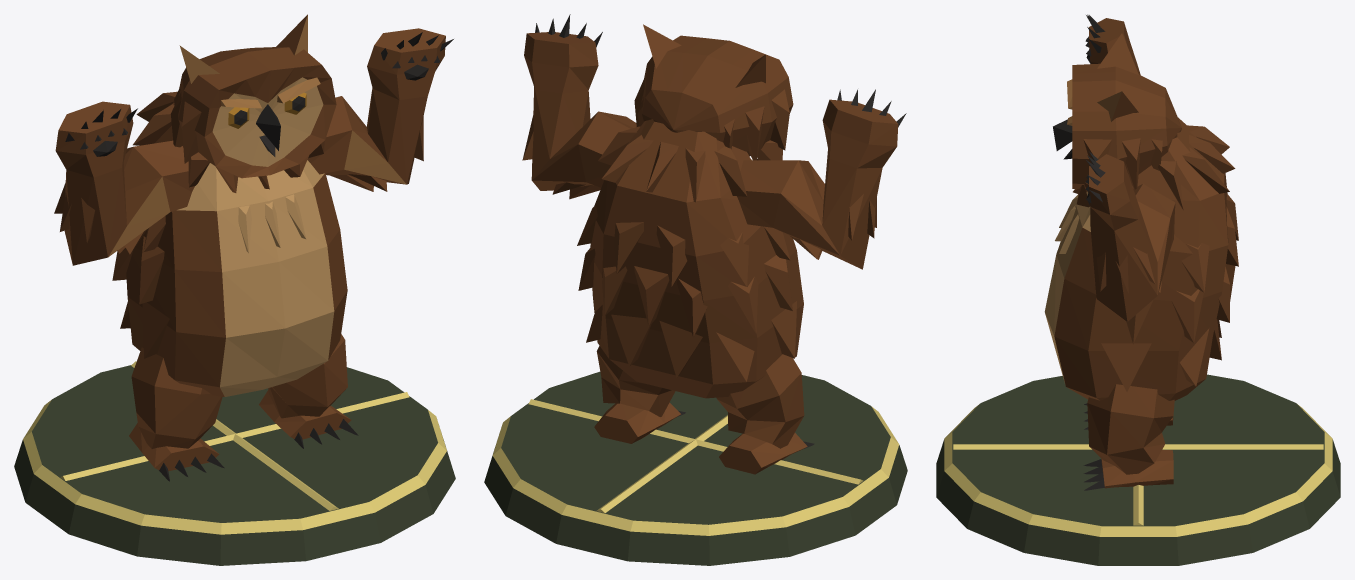
Rendered from owlbear-miniature-0218ce.glb.
The picture shows the model from 3 angles, left to right: view 1: azimuth 30°, elevation 25°; view 2: azimuth 150°, elevation 25°; view 3: azimuth 270°, elevation 25°; orthographic projection. The views are drawn at different scales.
Visible parts, largest first — view 1: matte, metal; view 2: matte, metal; view 3: matte, metal.
Part boxes in pixels (x1,y1,x2,y2): matte: (14,14,455,565); metal: (23,361,446,534); matte: (484,14,907,565); metal: (492,399,899,535); matte: (936,14,1340,565); metal: (944,404,1332,536).
Bounding box in the file's own units: 0.0517 × 0.0571 × 0.05.
